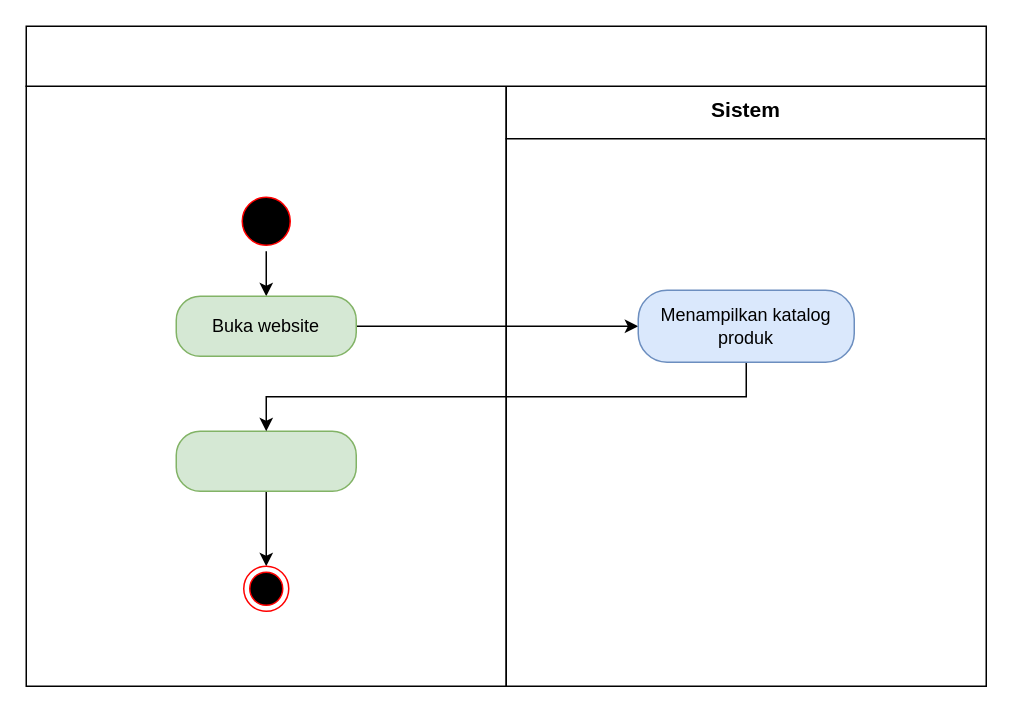
The diagram is 1013 pixels wide and 713 high, and some of its shapes have lost their labels. Each missing label, with the centre of its shape:
"6. ACTIVITY DIAGRAM MEMILIH PRODUK" belongs at [505,55].
"Memilih produk" belongs at [265,460].
